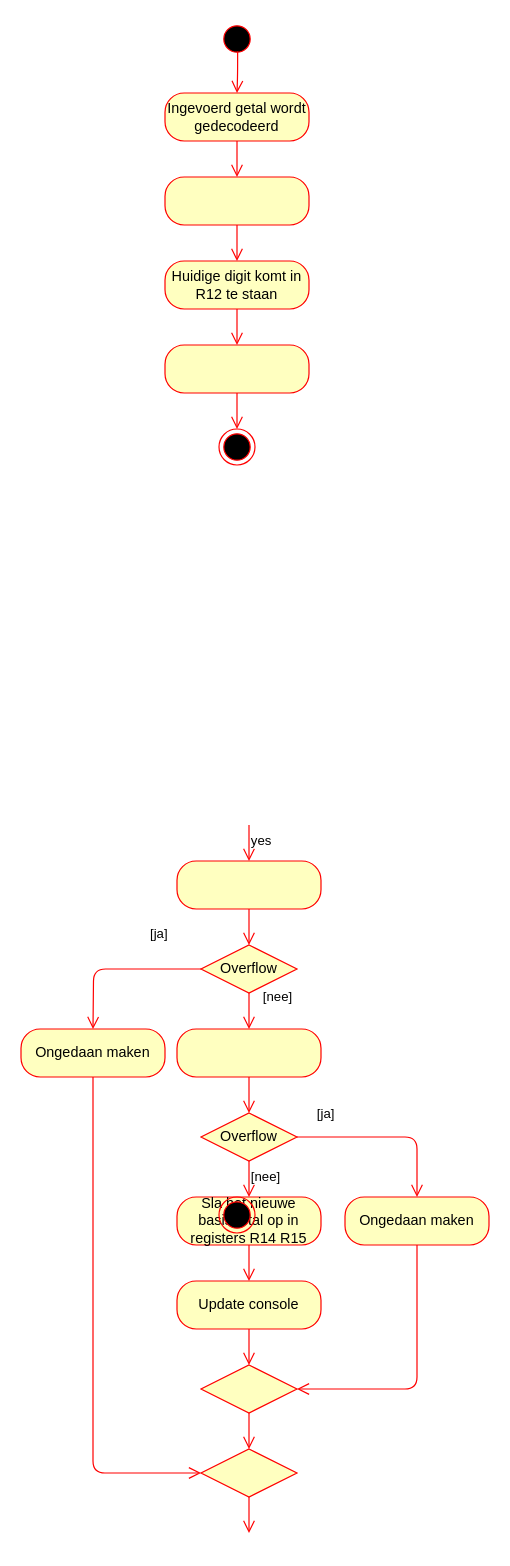
The diagram is 510 pixels wide and 1566 high, and some of its shapes have lost their labels. Each missing label, with the box of its shape:
Basis getal * 10: (176, 860, 321, 909)
Sla vorig digit of operator op in RAM: (164, 176, 309, 225)
Stuur R12 naar de console: (164, 344, 309, 393)
Tel invoer erbij op: (176, 1028, 321, 1077)
